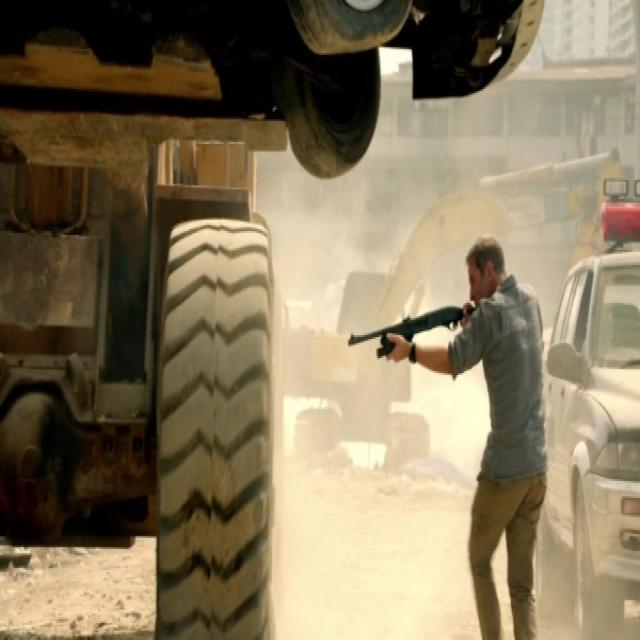rifle: (347, 299, 474, 371)
